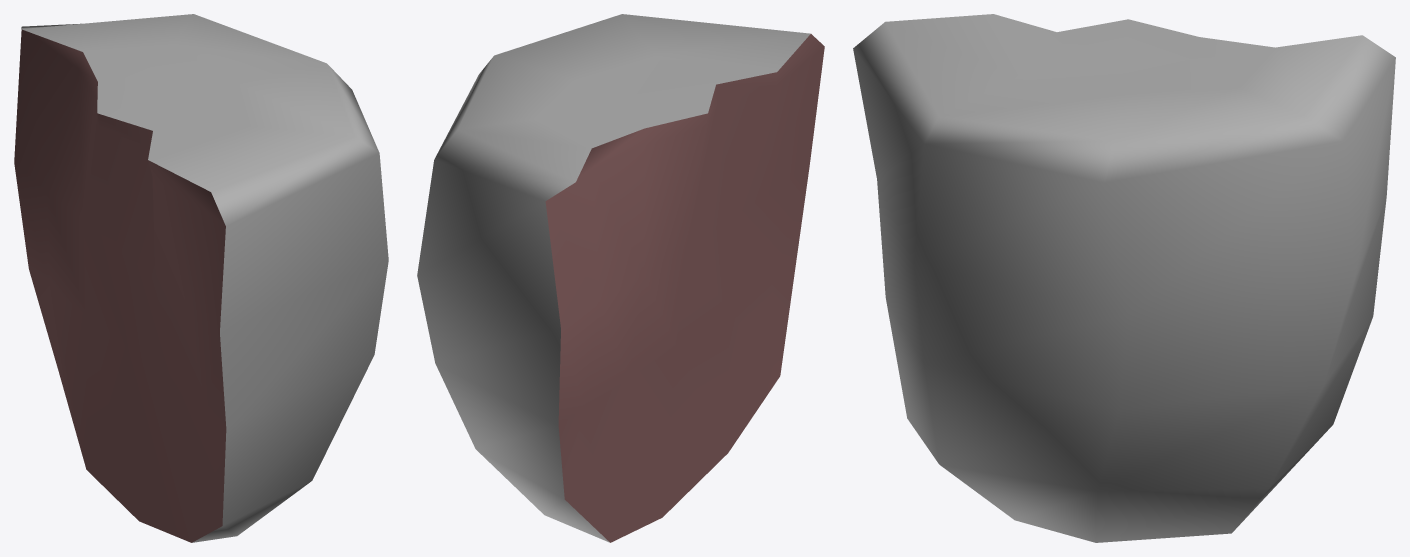
3 views of the same model, side by side, from view 1: azimuth 30°, elevation 25°; view 2: azimuth 150°, elevation 25°; view 3: azimuth 270°, elevation 25° (orthographic). The views are drawn at different scales.
Parts seen in each view (by area): view 1: p1_1; view 2: p1_1; view 3: p1_1.
Part boxes in pixels (x1,y1,x2,y2): p1_1: (14, 14, 388, 542); p1_1: (417, 14, 824, 542); p1_1: (853, 14, 1395, 542).
Bounding box in the file's own units: 4.45 × 7.04 × 7.4.
